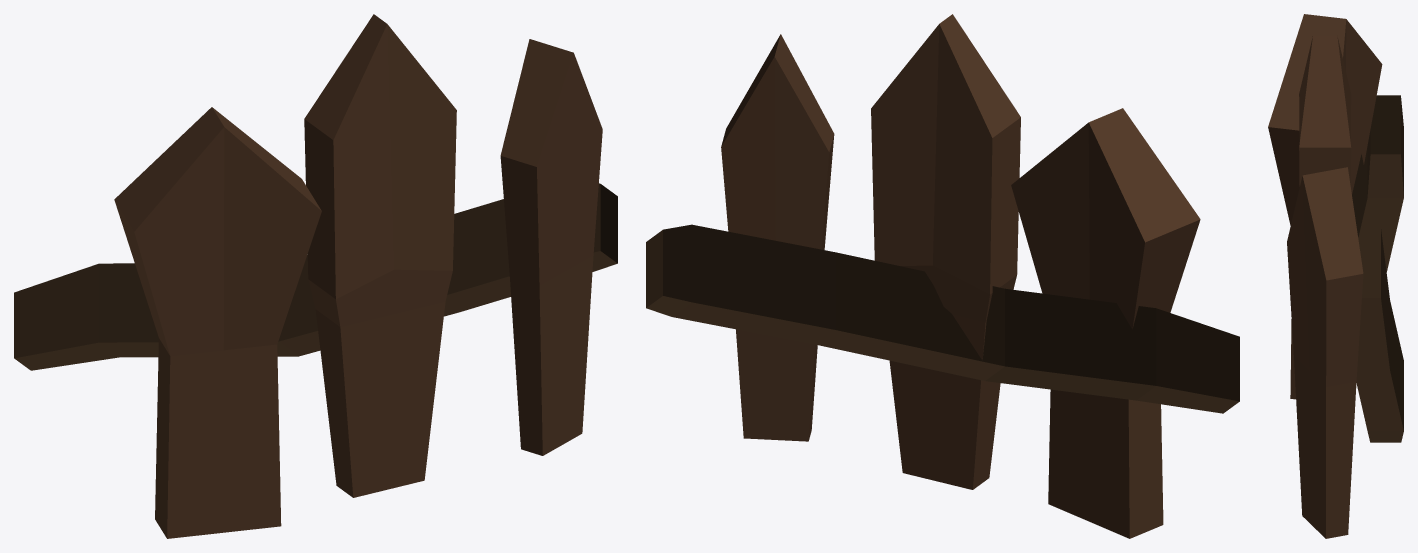
File: Cerca2.fbx
3 renders of one model, left to right at view 1: azimuth 30°, elevation 25°; view 2: azimuth 150°, elevation 25°; view 3: azimuth 270°, elevation 25°, orthographic. The views are drawn at different scales.
Parts seen in each view (by area): view 1: Cube.002; view 2: Cube.002; view 3: Cube.002.
Boxes of the visible parts, x1,y1,x2,y2 form: Cube.002: (14,14,617,538); Cube.002: (646,14,1239,538); Cube.002: (1268,14,1403,538).
Bounding box in the file's own units: 600 × 454 × 135.
